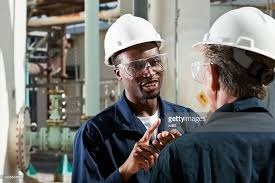helmet: (192, 3, 275, 60), (94, 12, 172, 68)
person with partial safety: (175, 6, 275, 172), (86, 12, 204, 135)
